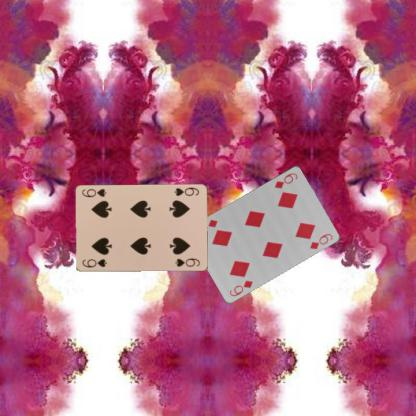6d: (227, 278, 254, 298), (272, 170, 298, 189)
6s: (172, 185, 200, 197), (80, 257, 107, 268)
